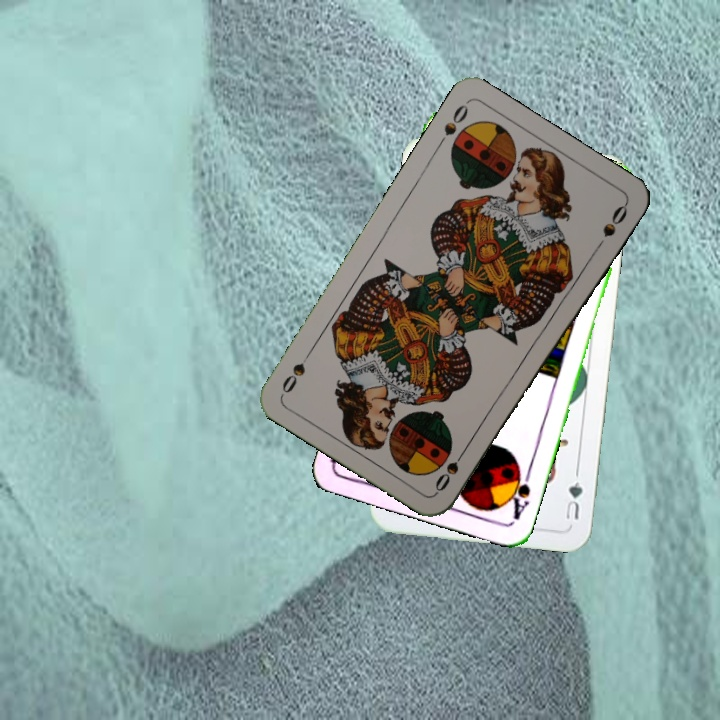GU: (561, 467, 585, 522)
SA: (503, 462, 534, 523)
SO: (430, 442, 471, 494), (432, 100, 471, 151)
